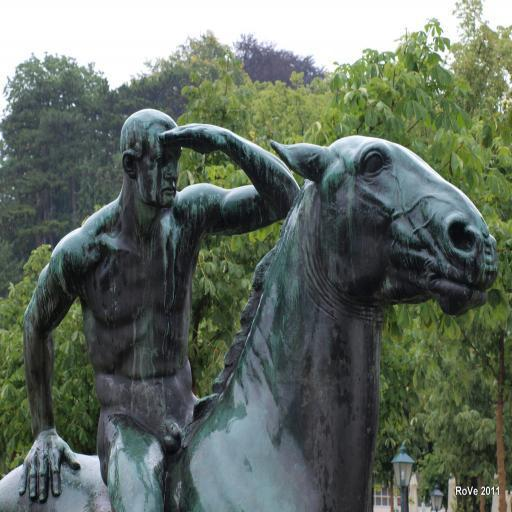horse: (0, 134, 501, 512)
